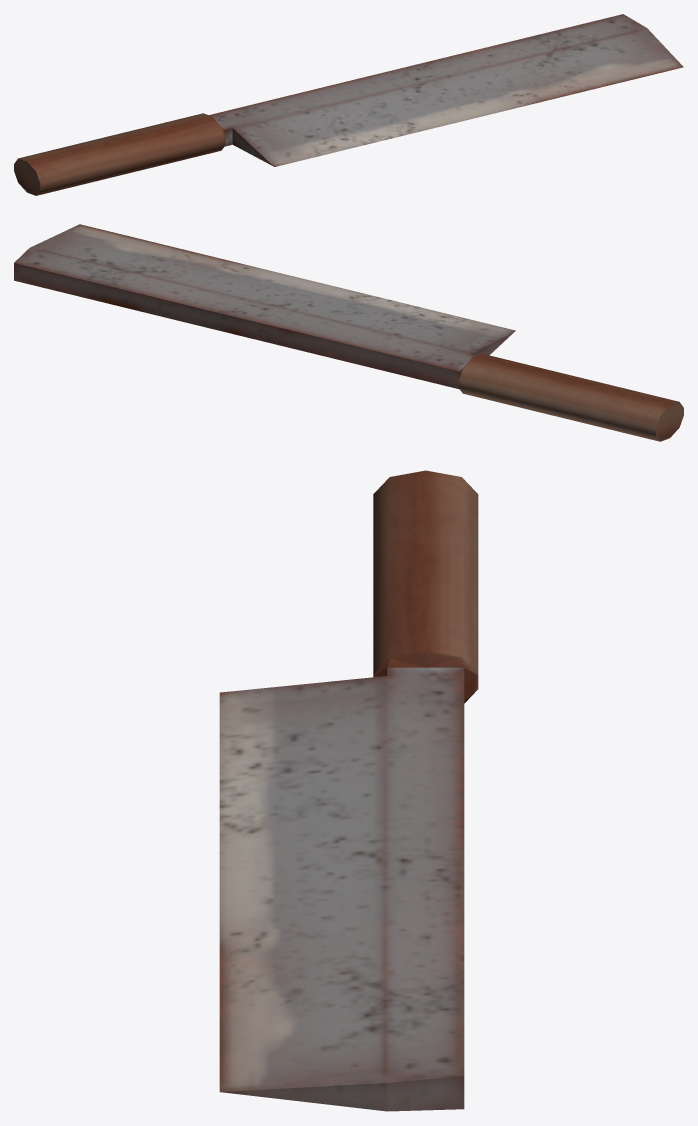
The model's file is sb_obj_indoor001_OldKitchen_Kitchenknife.fbx.
The picture shows the model from 3 angles, top to bottom: view 1: azimuth 30°, elevation 25°; view 2: azimuth 150°, elevation 25°; view 3: azimuth 270°, elevation 25°; orthographic projection. The views are drawn at different scales.
Parts seen in each view (by area): view 1: sb_obj_indoor001_OldKitchen_Kitchenknife; view 2: sb_obj_indoor001_OldKitchen_Kitchenknife; view 3: sb_obj_indoor001_OldKitchen_Kitchenknife.
Part boxes in pixels (x1,y1,x2,y2): sb_obj_indoor001_OldKitchen_Kitchenknife: (14,14,683,195); sb_obj_indoor001_OldKitchen_Kitchenknife: (14,224,683,441); sb_obj_indoor001_OldKitchen_Kitchenknife: (219,470,478,1111).
Size of the model in its own units: 0.3761 by 0.0182 by 0.0691.
